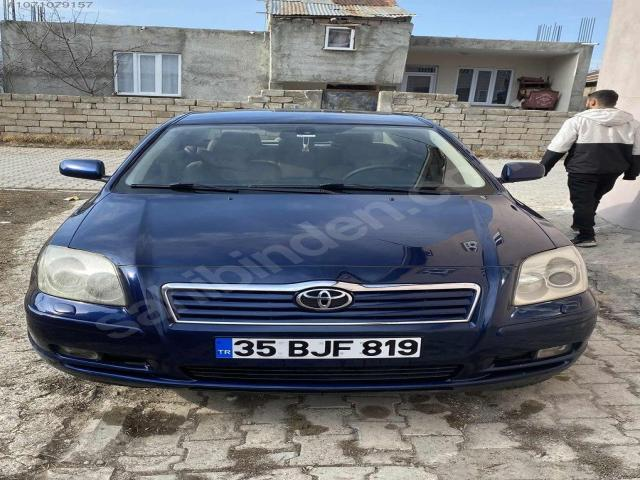plaka: (215, 338, 420, 358)
